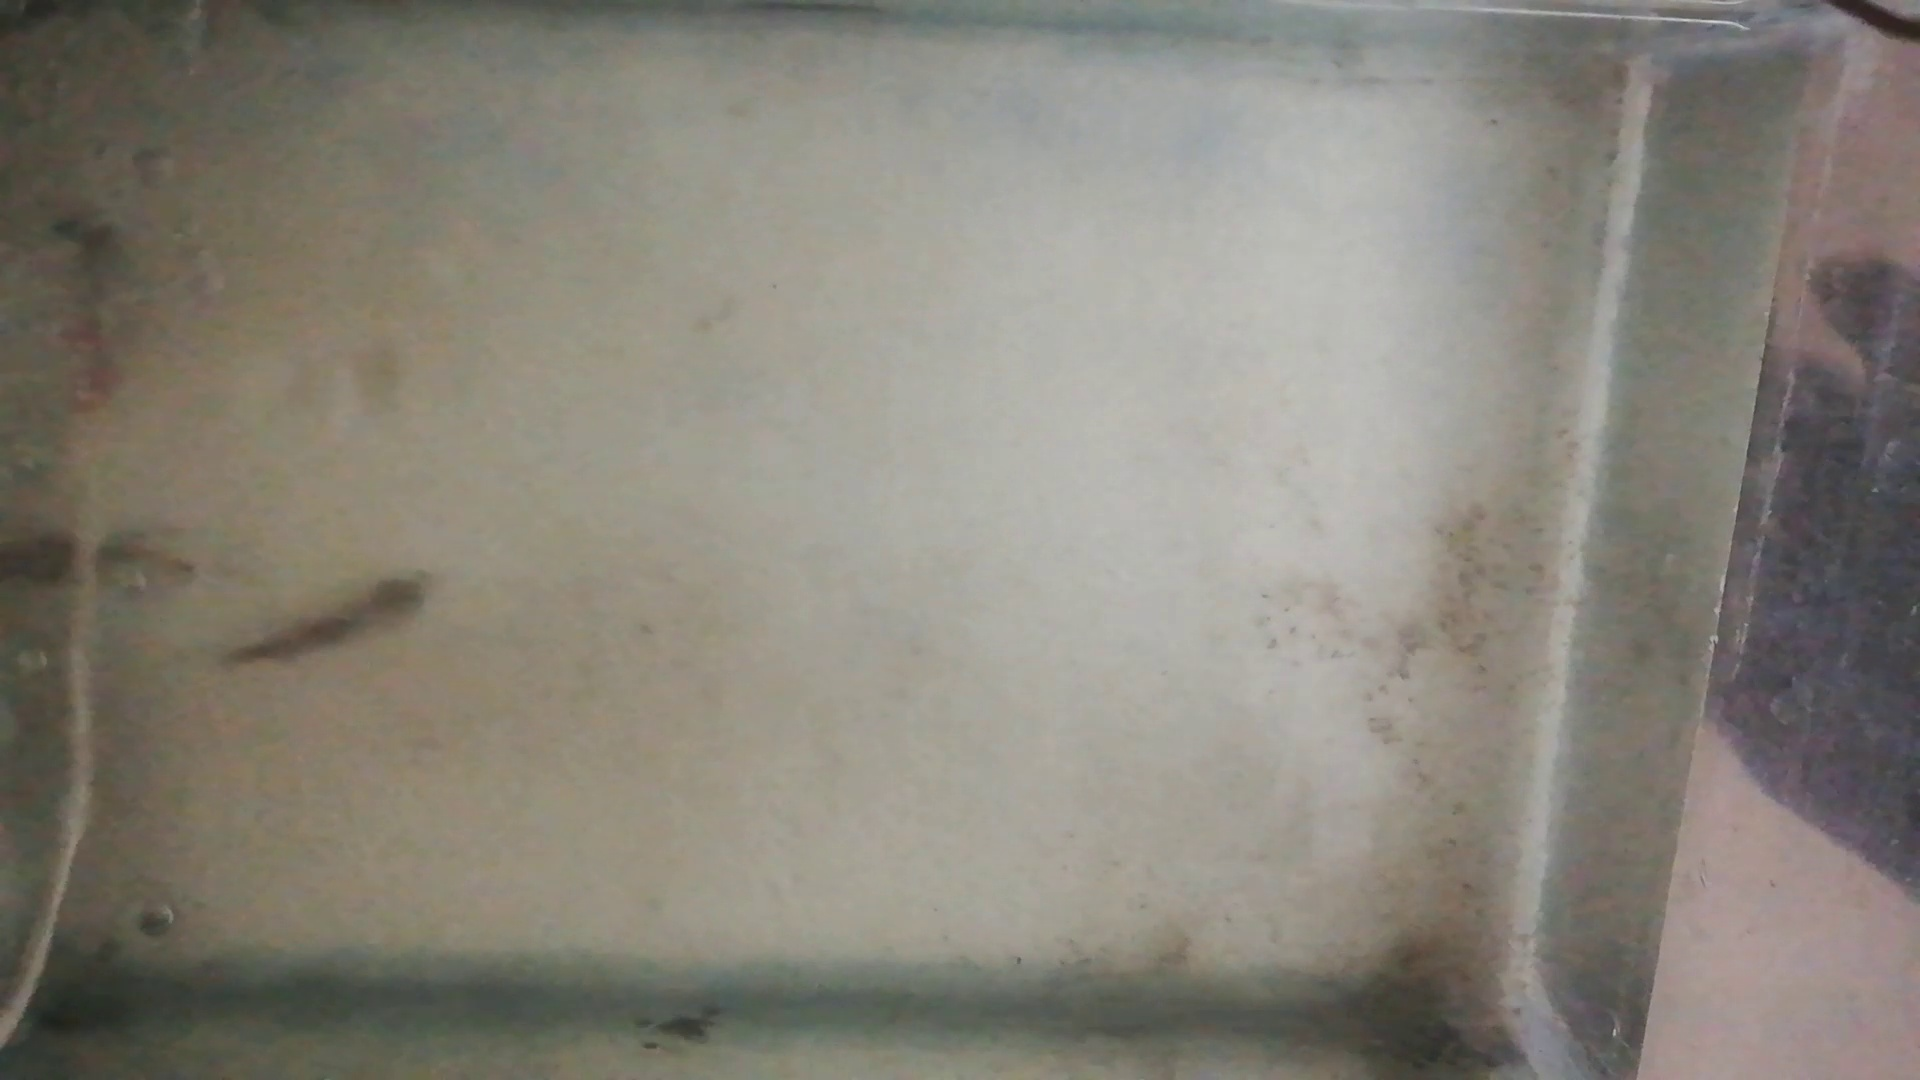fish: (222, 575, 433, 669), (3, 535, 190, 593)
